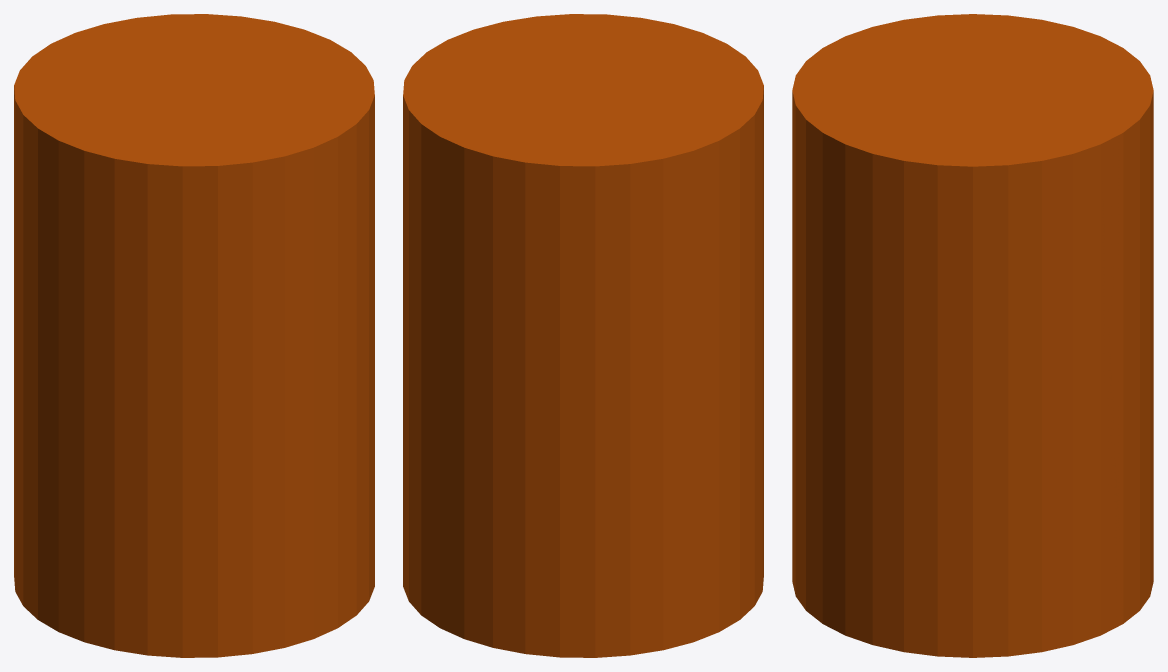
The model's file is anchorGeospatialPreview.glb.
3 views of the same model, side by side, from view 1: azimuth 30°, elevation 25°; view 2: azimuth 150°, elevation 25°; view 3: azimuth 270°, elevation 25° (orthographic).
Parts seen in each view (by area): view 1: Cylinder; view 2: Cylinder; view 3: Cylinder.
Part boxes in pixels (x1=…): Cylinder: x1=14, y1=14, x2=374, y2=657; Cylinder: x1=403, y1=14, x2=763, y2=657; Cylinder: x1=792, y1=14, x2=1153, y2=657.
Size of the model in its own units: 0.2 by 0.3 by 0.2.
